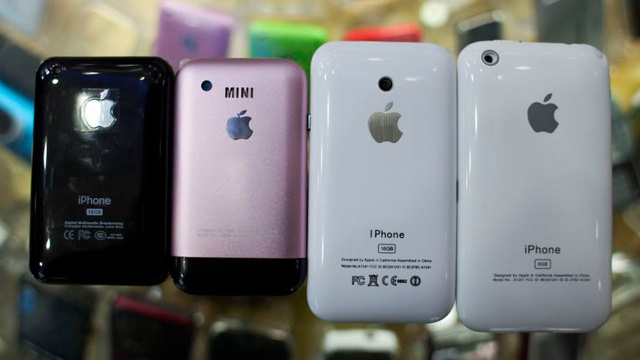apple: (519, 85, 574, 156), (361, 97, 414, 153)
